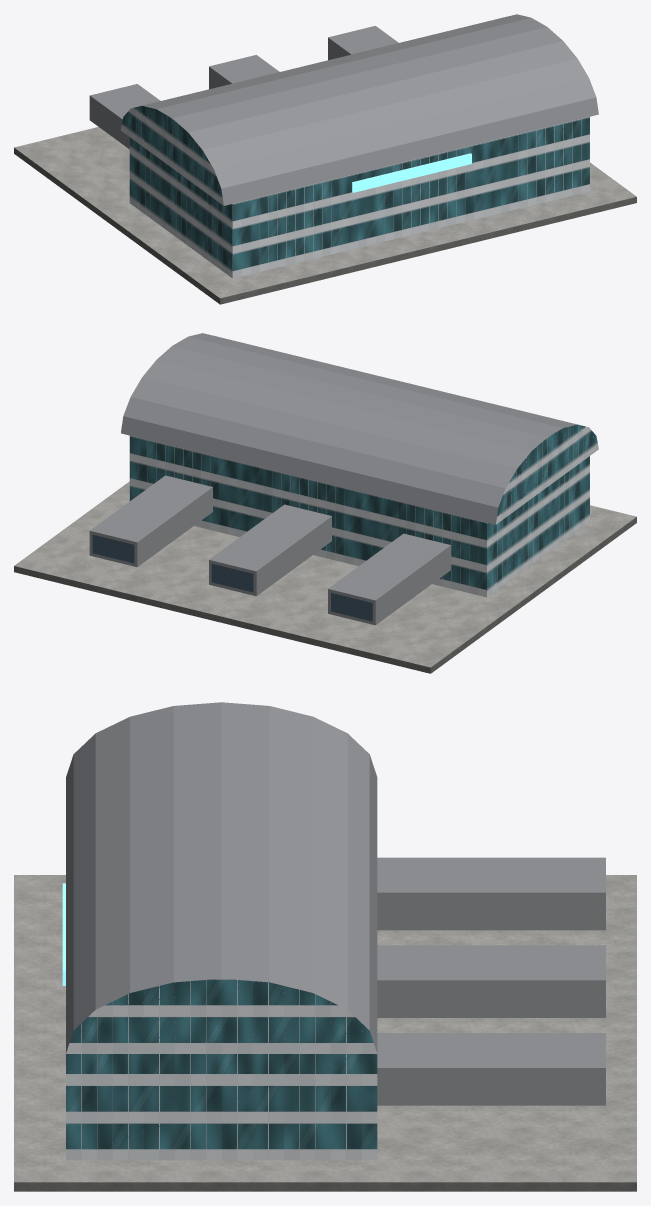
Rendered from 094_ferry_terminal.glb.
3 views of the same model, one above another, from view 1: azimuth 30°, elevation 25°; view 2: azimuth 150°, elevation 25°; view 3: azimuth 270°, elevation 25° (orthographic). The views are drawn at different scales.
Visible parts, largest first — view 1: 094_ferry_terminal; view 2: 094_ferry_terminal; view 3: 094_ferry_terminal.
Boxes of the visible parts, x1,y1,x2,y2 form: 094_ferry_terminal: [14, 14, 636, 304]; 094_ferry_terminal: [14, 333, 636, 673]; 094_ferry_terminal: [14, 702, 636, 1191].
Size of the model in its own units: 70 by 21 by 60.
Materials: 6 (3 with a texture image).
